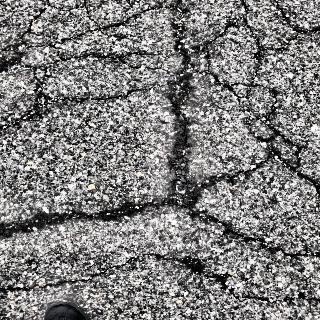alligator-crack: (1, 3, 320, 319)
